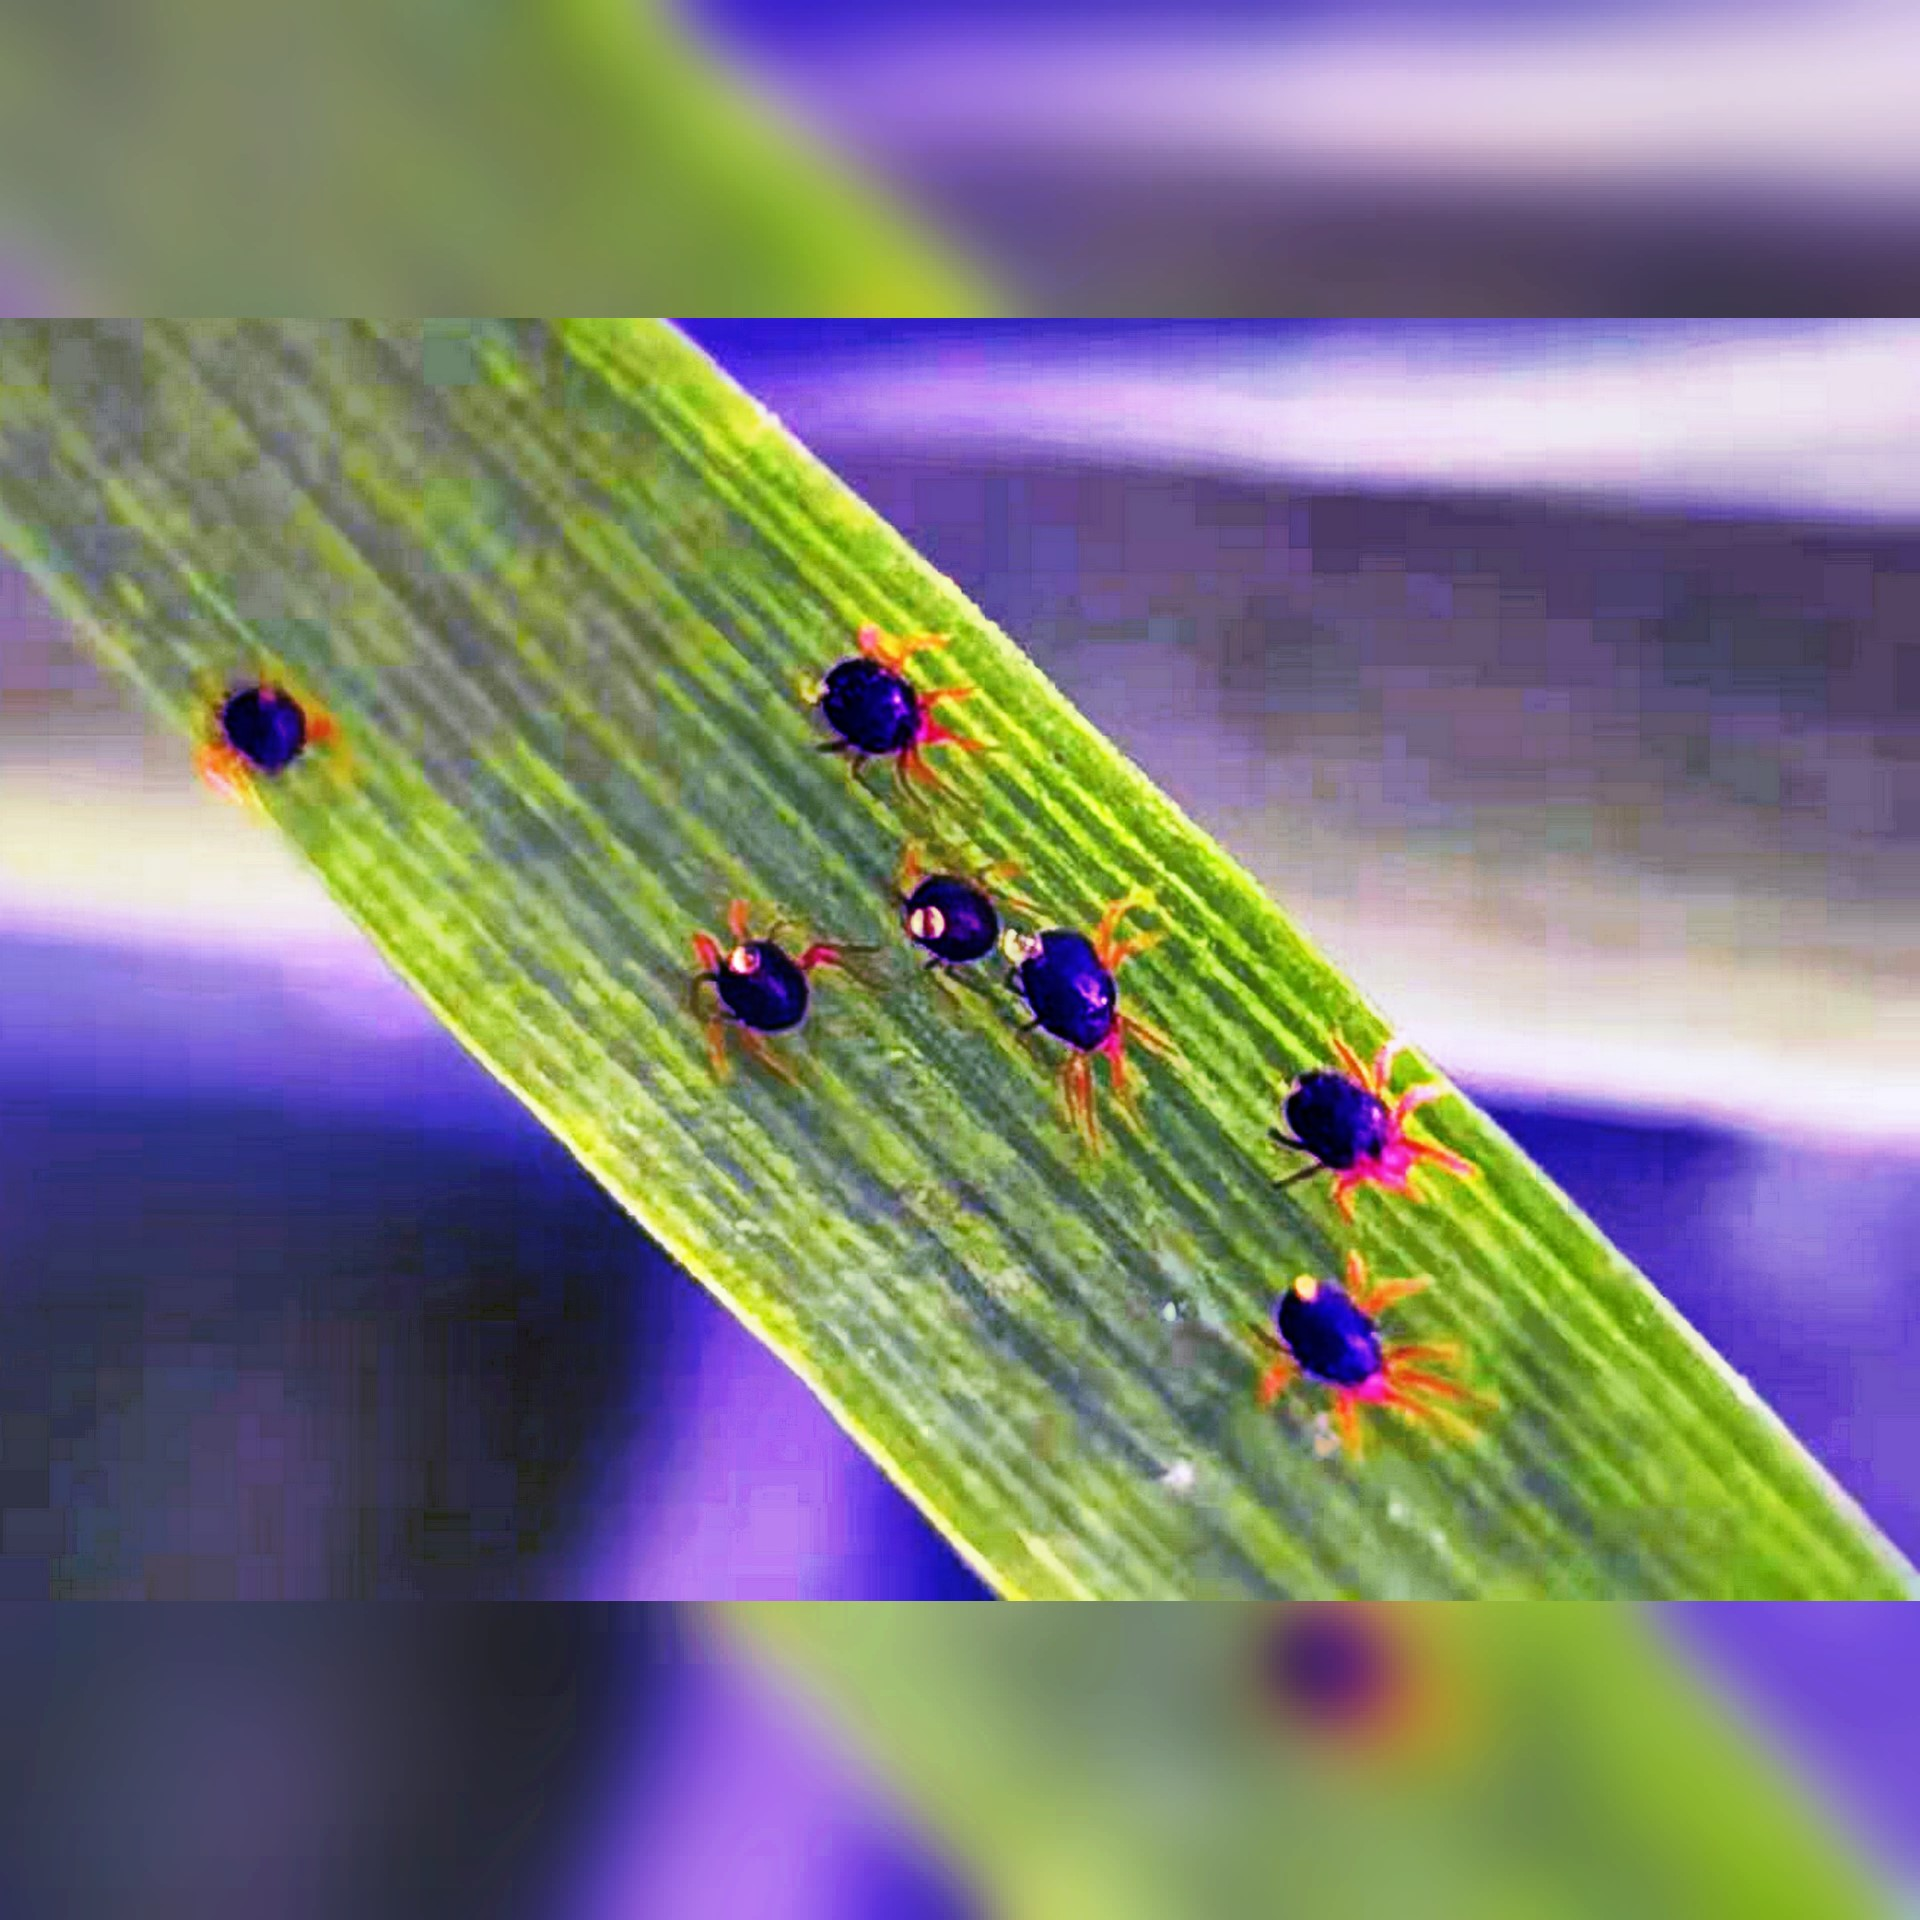Wheat Red Spider: (591, 557, 1162, 1187), (1190, 967, 1553, 1510)
